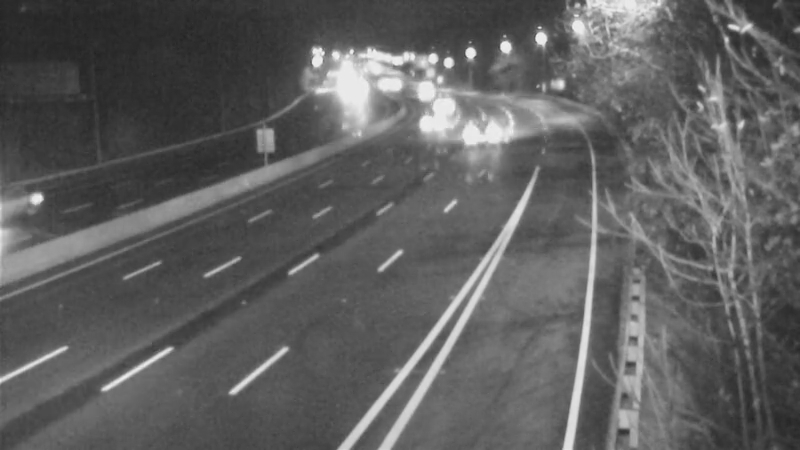vehicle: (1, 165, 69, 245), (399, 68, 449, 118), (417, 82, 467, 132), (408, 100, 458, 150), (454, 104, 504, 154)
